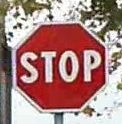stop: (12, 18, 108, 112)
